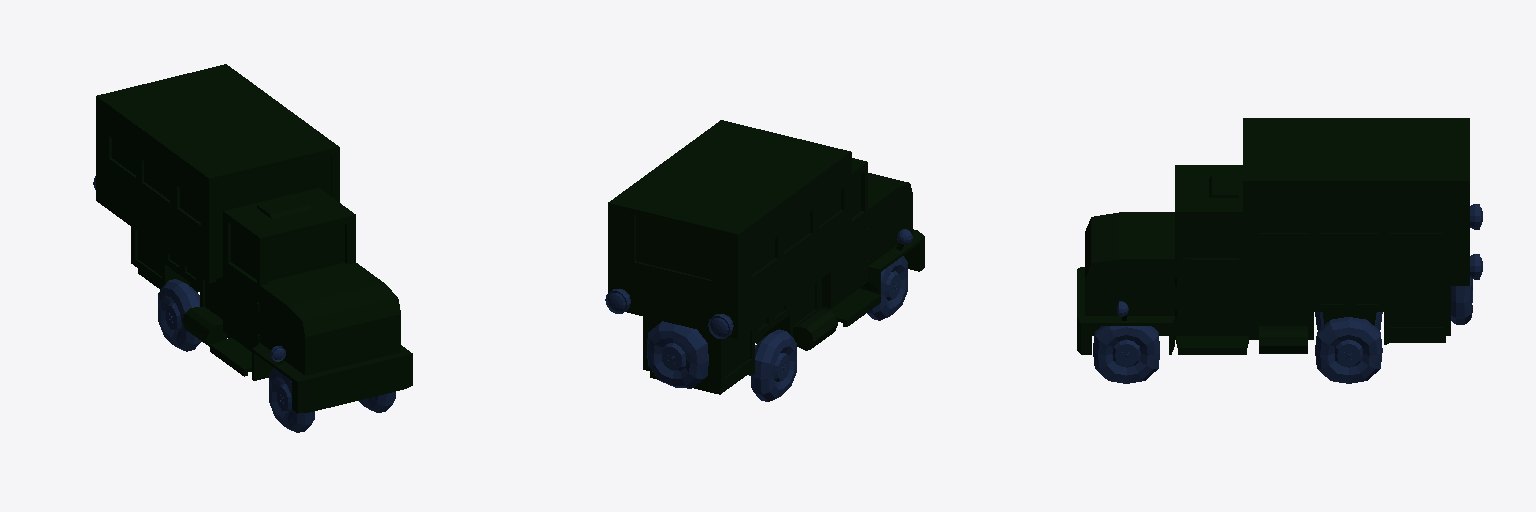
Rendered from Truck.obj.
3 views of the same model, side by side, from view 1: azimuth 30°, elevation 25°; view 2: azimuth 150°, elevation 25°; view 3: azimuth 270°, elevation 25° (orthographic).
Visible parts, largest first — view 1: Truck, Tires; view 2: Truck, Tires, BackTire, BrakeLights; view 3: Truck, Tires, BackTire, BrakeLights.
Part boxes in pixels (x1,y1,x2,y2): Truck: (96,64,412,413); Tires: (158,279,395,432); Truck: (608,120,924,394); Tires: (749,256,907,401); BackTire: (647,321,708,388); BrakeLights: (605,289,733,338); Truck: (1077,118,1469,354); Tires: (1093,312,1382,383); BackTire: (1451,278,1472,324); BrakeLights: (1470,204,1482,279).
Size of the model in its own units: 8.82 by 13.8 by 23.82.